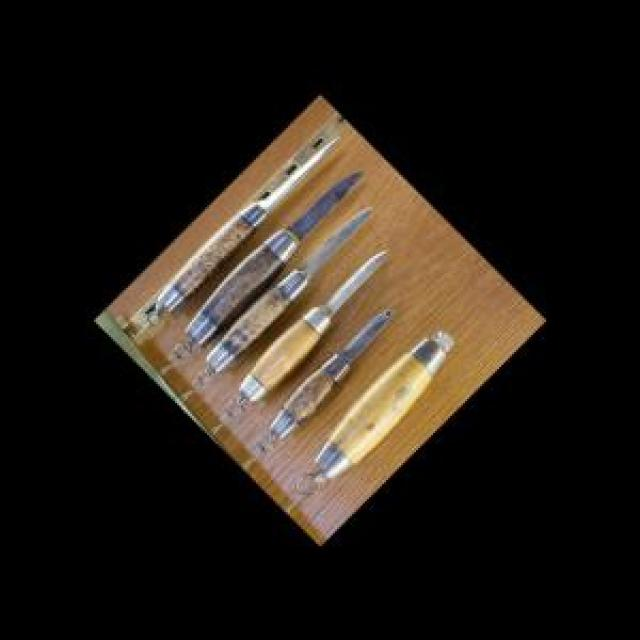knife: (147, 132, 350, 320), (184, 162, 372, 350), (205, 196, 380, 374), (236, 239, 394, 401), (256, 305, 399, 463)
